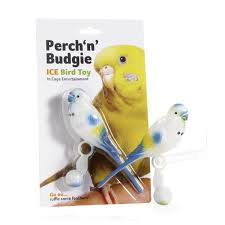budgie: (89, 42, 147, 117)
